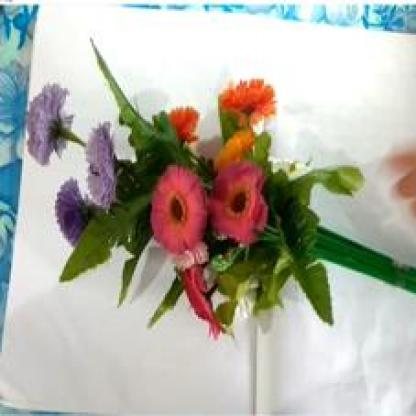flower: (4, 24, 351, 410)
